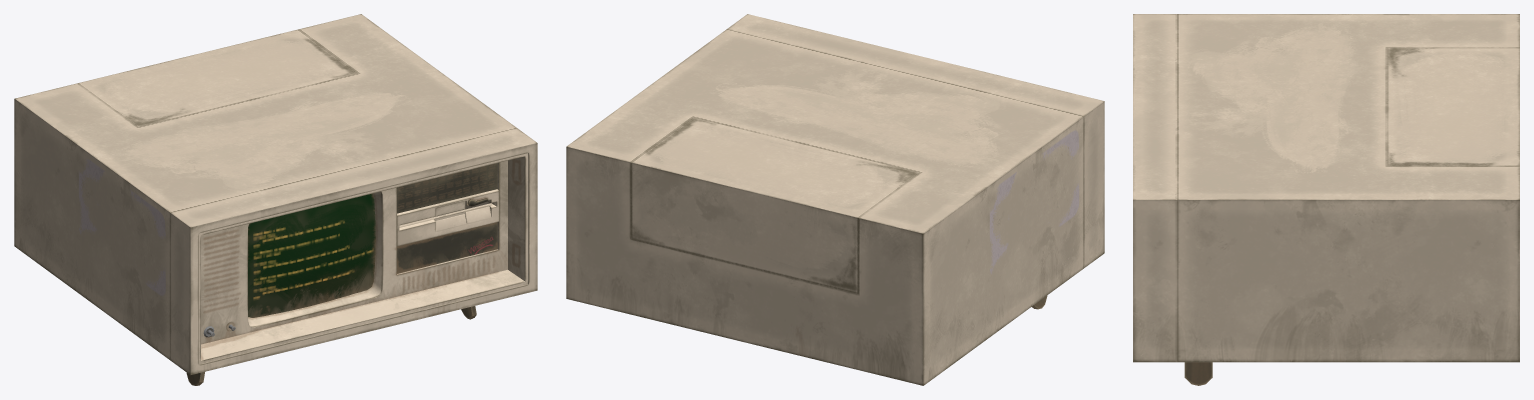
The model's file is old_pc.glb.
3 views of the same model, side by side, from view 1: azimuth 30°, elevation 25°; view 2: azimuth 150°, elevation 25°; view 3: azimuth 270°, elevation 25° (orthographic). The views are drawn at different scales.
Visible parts, largest first — view 1: Plane.001; view 2: Plane.001; view 3: Plane.001.
Boxes of the visible parts, x1,y1,x2,y2 form: Plane.001: (14,14,537,385); Plane.001: (566,14,1104,385); Plane.001: (1133,14,1519,385).
Bounding box in the file's own units: 500 × 259 × 440.
Materials: 1 (1 with a texture image).
